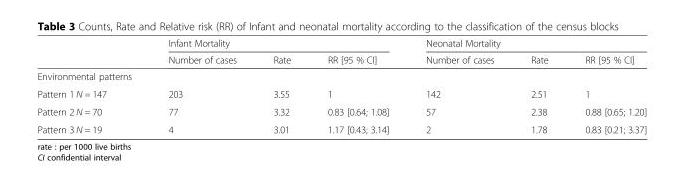table: (36, 37, 646, 134)
table column: (36, 37, 149, 134), (149, 37, 254, 134), (406, 37, 511, 134), (308, 37, 406, 134), (566, 37, 646, 134), (511, 37, 566, 134), (254, 37, 308, 134)
table column header: (36, 37, 646, 67)
table projected row header: (36, 67, 646, 84)
table row: (36, 84, 646, 102), (36, 102, 646, 120), (36, 67, 646, 84), (36, 51, 646, 67), (36, 37, 646, 51), (36, 120, 646, 134)
table spanning cell: (149, 37, 406, 51), (406, 37, 646, 51)
